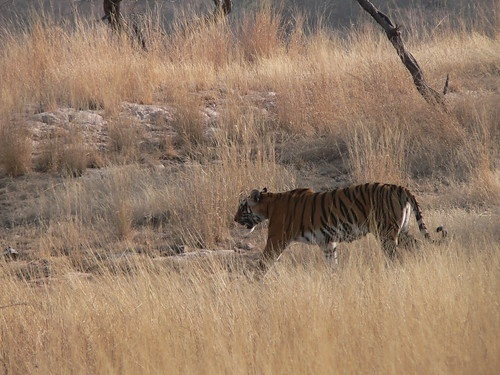tigre: (232, 180, 443, 287)
